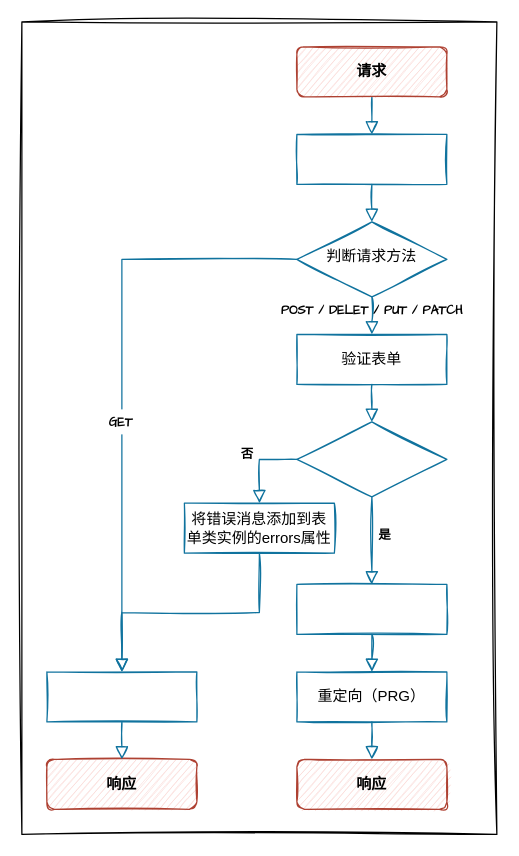
This 519x856 diagram has some shape labels left out. The centre of each missing label's shape, as x and y in pixels:
"处理表单数据" goes at (x=371, y=608).
"实例化表单类" goes at (x=371, y=158).
"渲染模板 传入表单类实例" goes at (x=121, y=696).
"验证通过？" goes at (x=371, y=459).
